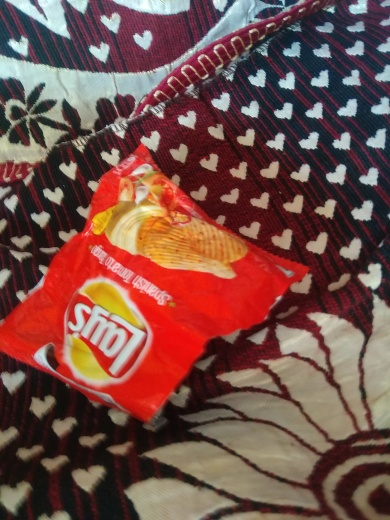lays: (1, 148, 309, 430)
